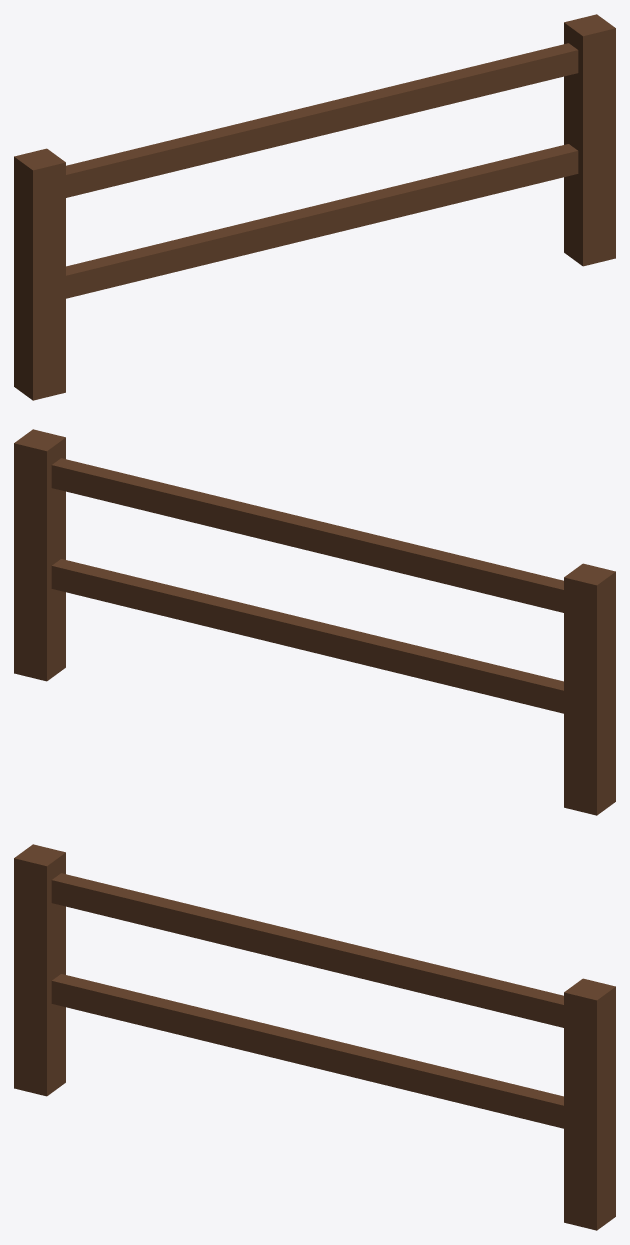
File: SM_Fence_Section.fbx
The picture shows the model from 3 angles, top to bottom: view 1: azimuth 30°, elevation 25°; view 2: azimuth 150°, elevation 25°; view 3: azimuth 330°, elevation 25°; orthographic projection.
Visible parts, largest first — view 1: Rail_High, Rail_Low, Post_R, Post_L; view 2: Rail_High, Rail_Low, Post_R, Post_L; view 3: Rail_High, Rail_Low, Post_L, Post_R.
Boxes of the visible parts, x1,y1,x2,y2 form: Rail_High: (66,43,578,197); Rail_Low: (66,144,578,298); Post_R: (14,148,65,400); Post_L: (564,14,615,266); Rail_High: (51,458,563,612); Rail_Low: (51,559,563,713); Post_R: (564,563,615,815); Post_L: (14,429,65,681); Rail_High: (51,873,563,1027); Rail_Low: (51,974,563,1128); Post_L: (564,978,615,1230); Post_R: (14,844,65,1096).
Bounding box in the file's own units: 2.12 × 0.8 × 0.12.
